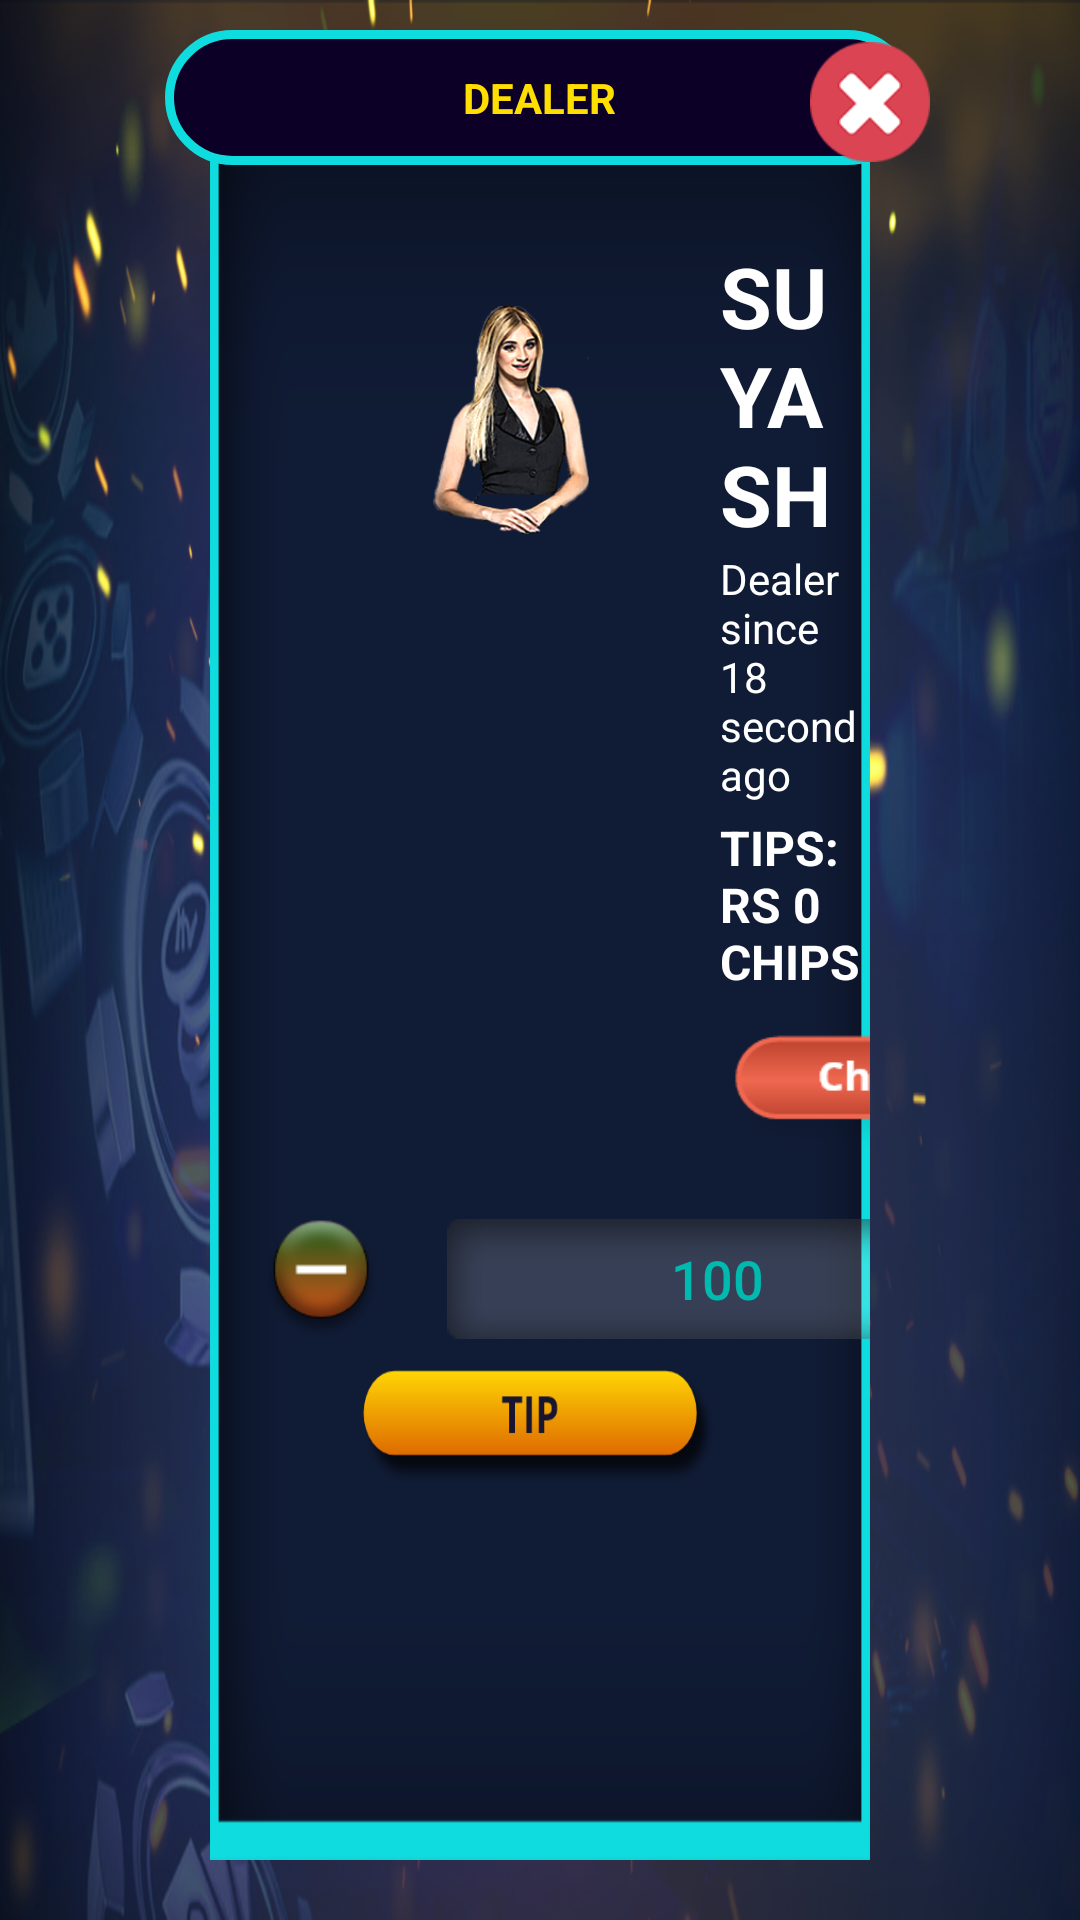

Where to tap for icons on this 1080 × 1920 app screen, as (x=x, y=y):
close: (x=870, y=102)
minusnew: (x=321, y=1269)
